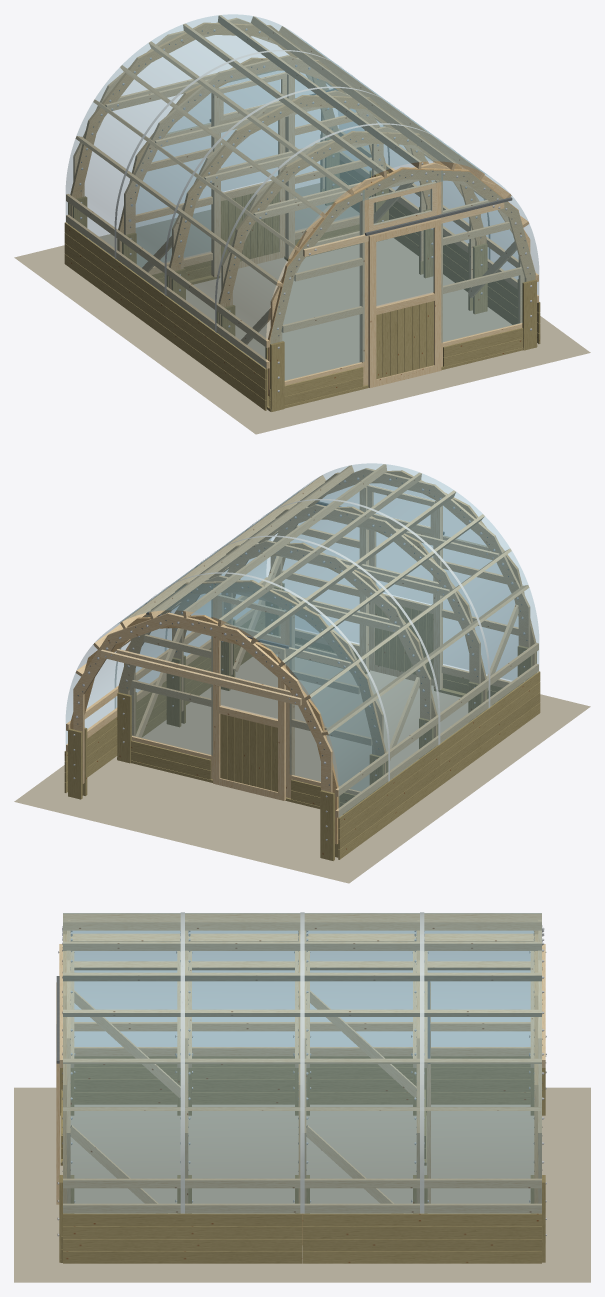
File: greenhouse-baked.glb
3 views of the same model, one above another, from view 1: azimuth 30°, elevation 25°; view 2: azimuth 150°, elevation 25°; view 3: azimuth 270°, elevation 25° (orthographic). The views are drawn at different scales.
Parts seen in each view (by area): view 1: lightmapped, greenhouse; view 2: lightmapped, greenhouse; view 3: lightmapped, greenhouse.
Boxes of the visible parts, <box> form: lightmapped: <box>14,15,590,434</box>; greenhouse: <box>66,14,538,392</box>; lightmapped: <box>14,464,590,883</box>; greenhouse: <box>66,463,538,840</box>; lightmapped: <box>14,913,590,1282</box>; greenhouse: <box>56,912,546,1236</box>.
Size of the model in its own units: 4.7 by 2.87 by 5.88.
Materials: 10 (7 with a texture image).
